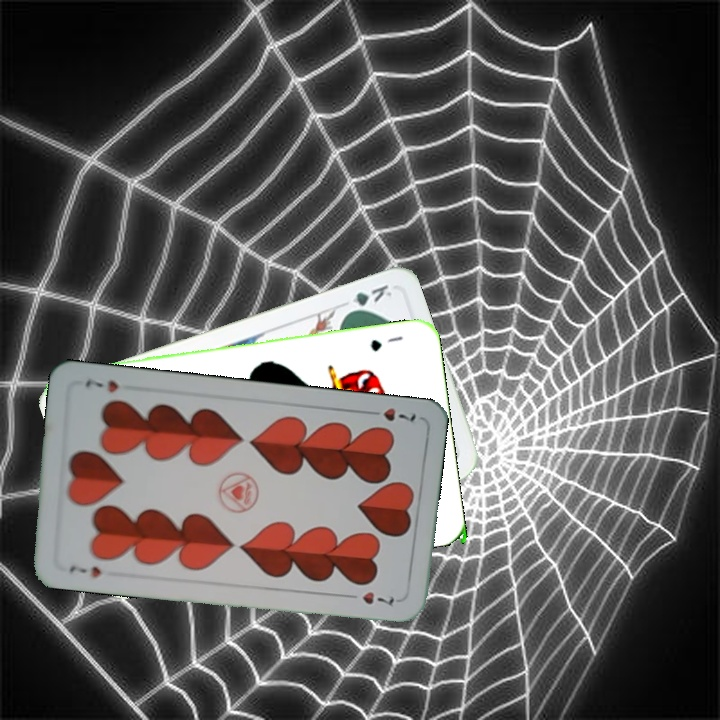GK: (340, 280, 395, 317)
GU: (366, 332, 405, 354)
H7: (362, 404, 419, 425), (65, 562, 104, 580)
